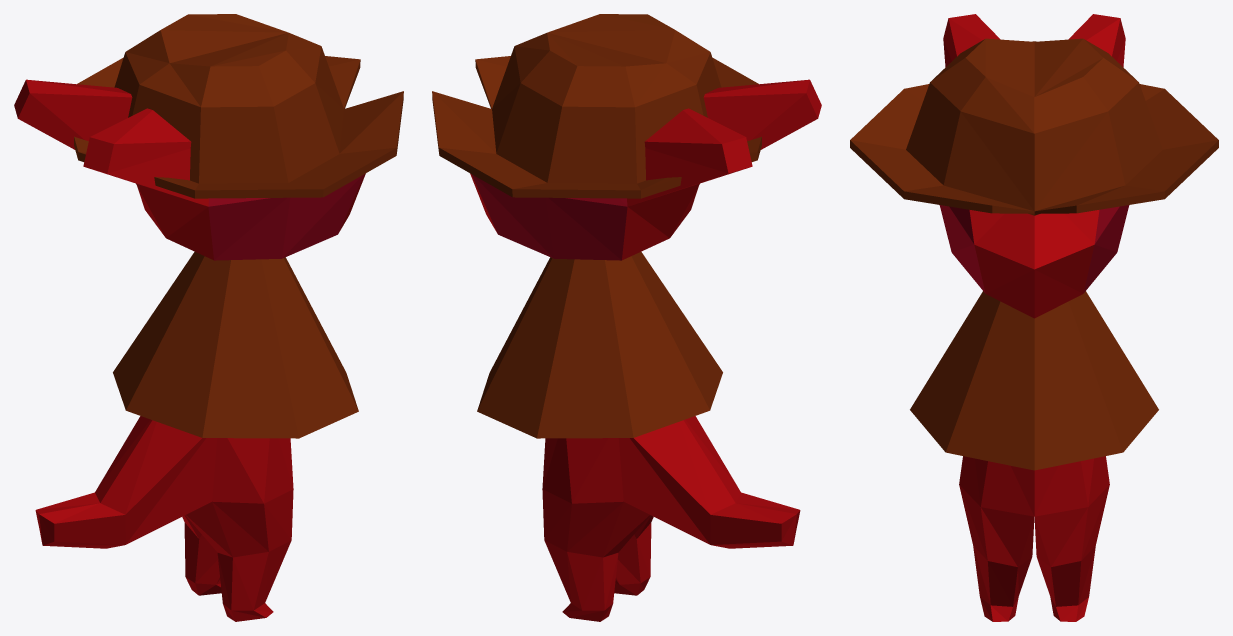
File: info_playerStart.glb
The picture shows the model from 3 angles, left to right: view 1: azimuth 30°, elevation 25°; view 2: azimuth 150°, elevation 25°; view 3: azimuth 270°, elevation 25°; orthographic projection. The views are drawn at different scales.
Parts seen in each view (by area): view 1: Goob, Circle; view 2: Goob, Circle; view 3: Goob, Circle.
Part boxes in pixels (box(x1,y1,x2,y2)): Goob: box(14, 79, 365, 621); Circle: box(74, 14, 403, 198); Goob: box(470, 79, 821, 621); Circle: box(432, 14, 761, 198); Goob: box(910, 14, 1158, 621); Circle: box(850, 38, 1218, 215).
Bounding box in the file's own units: 0.8581 × 1.35 × 0.8176.
